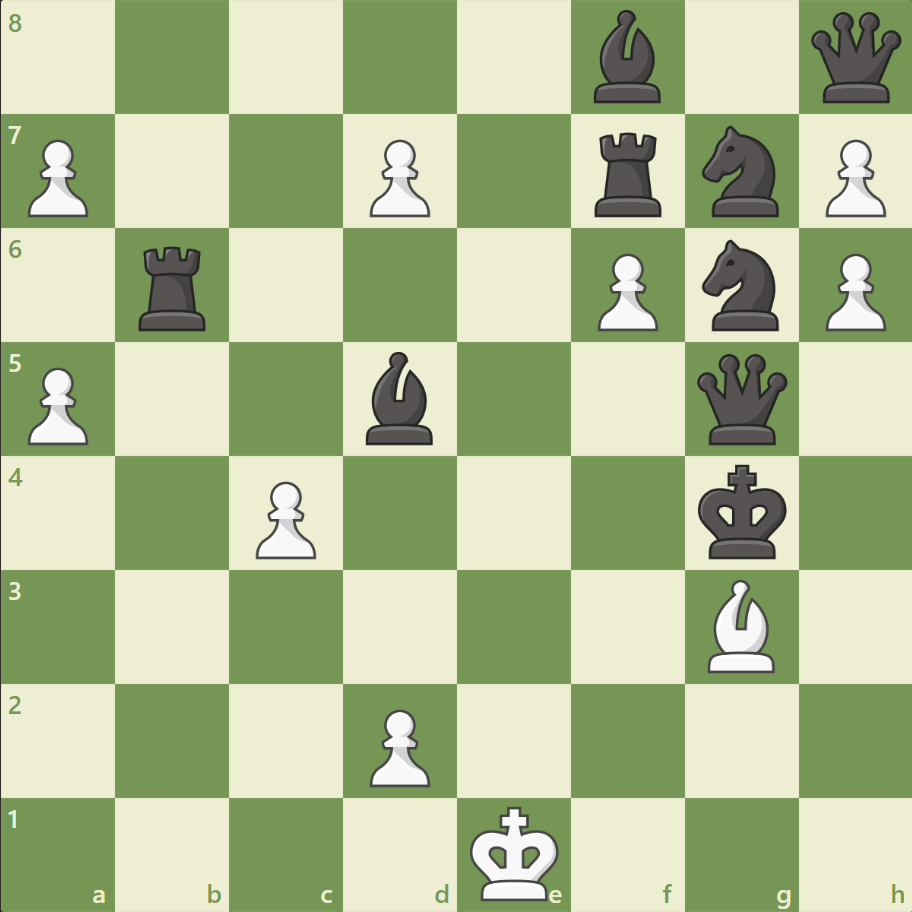B: (698, 574, 782, 676)
K: (465, 798, 565, 906)
P: (20, 132, 95, 223), (20, 359, 95, 450), (247, 473, 322, 564), (361, 132, 435, 223), (815, 132, 889, 223), (588, 246, 662, 337), (815, 246, 889, 337), (361, 700, 435, 791)
b: (585, 6, 669, 109), (358, 347, 442, 449)
k: (692, 458, 792, 566)
n: (692, 234, 789, 337), (692, 121, 789, 223)
q: (691, 349, 790, 449), (805, 9, 904, 108)
r: (587, 125, 670, 222), (133, 239, 215, 336)
